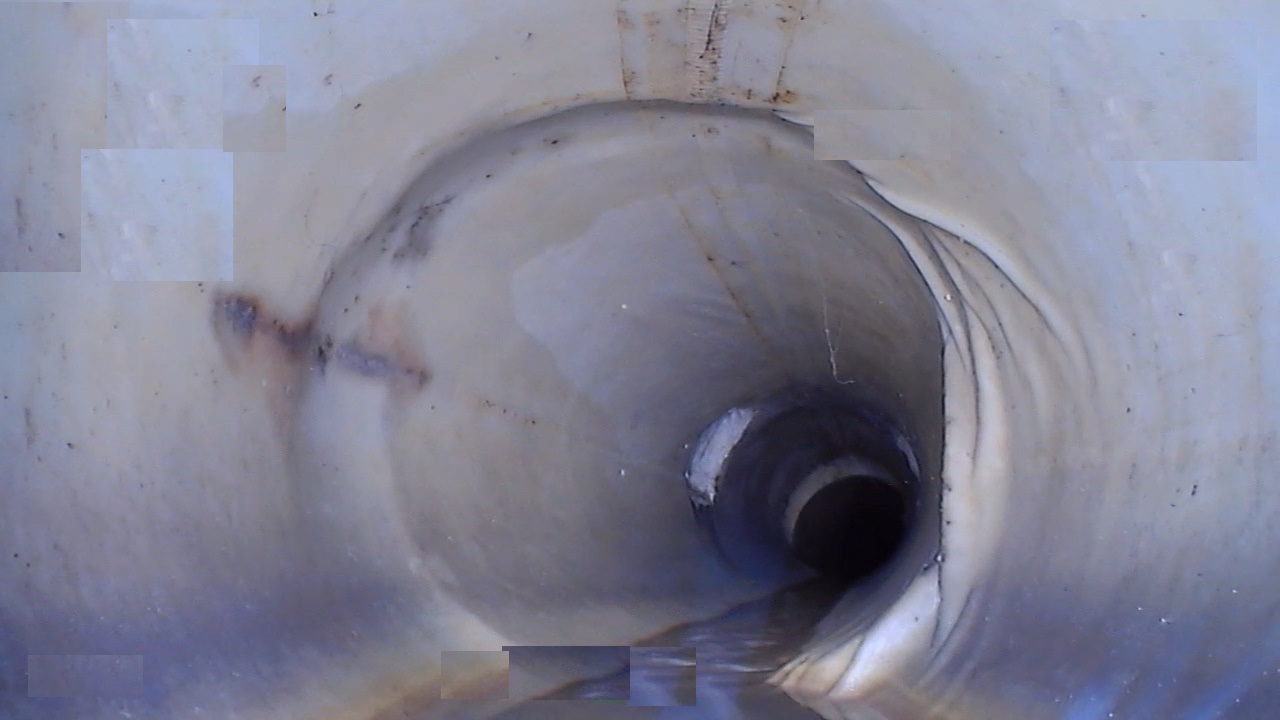circle1: (284, 91, 996, 698)
circle2: (833, 509, 898, 577)
